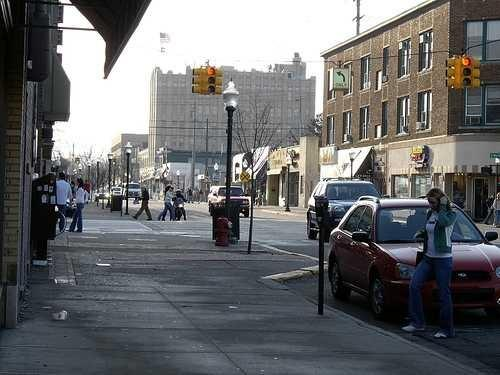red: (459, 53, 474, 92), (205, 63, 217, 96)
